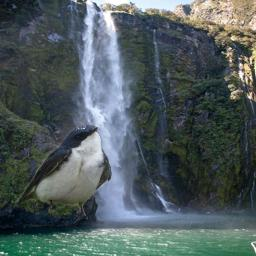Swallow: (15, 124, 113, 222)
